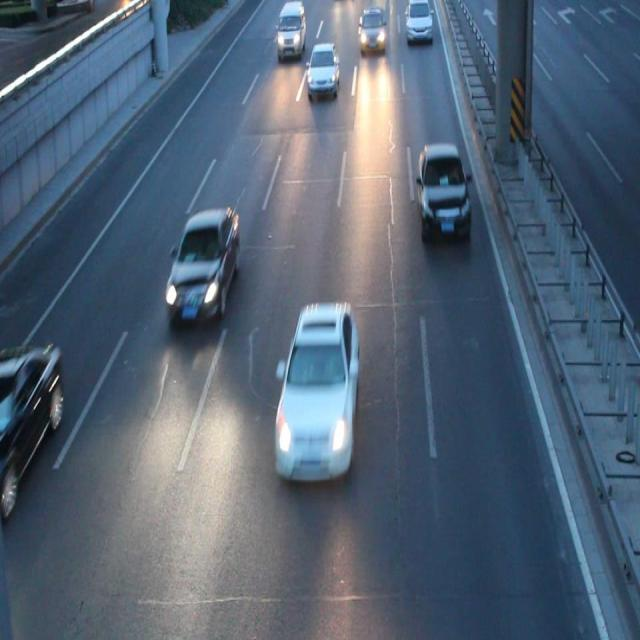car: (274, 300, 359, 483), (0, 344, 62, 508), (165, 208, 239, 323), (414, 143, 472, 241), (305, 42, 338, 94), (358, 10, 385, 54), (405, 1, 432, 40)
truck: (276, 1, 305, 58)
